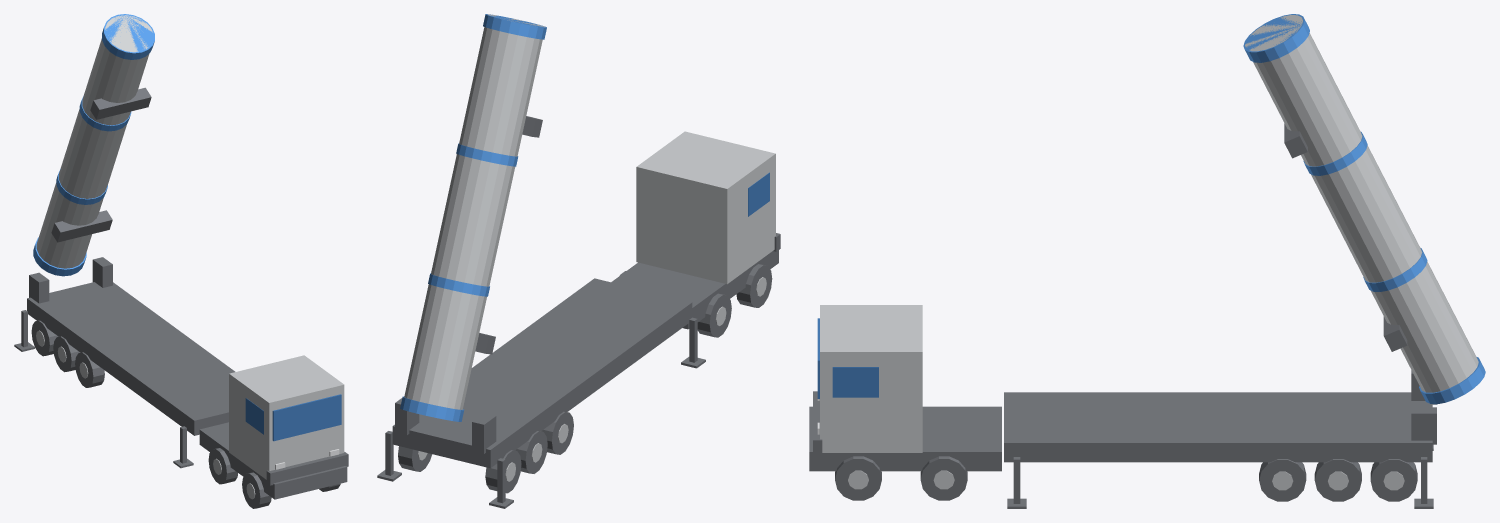
The model's file is Launcher_LongRange_01.fbx.
3 renders of one model, left to right at view 1: azimuth 30°, elevation 25°; view 2: azimuth 150°, elevation 25°; view 3: azimuth 270°, elevation 25°, orthographic. The views are drawn at different scales.
Parts seen in each view (by area): view 1: Launcher_LongRange_01_Trim, Launcher_LongRange_01_Canister_Structure, Launcher_LongRange_01_Structure, Launcher_LongRange_01_Canister_Accent, Launcher_LongRange_01_Windows, Launcher_LongRange_01_Canister_Trim; view 2: Launcher_LongRange_01_Trim, Launcher_LongRange_01_Canister_Structure, Launcher_LongRange_01_Structure, Launcher_LongRange_01_Canister_Accent, Launcher_LongRange_01_Canister_Trim, Launcher_LongRange_01_Windows; view 3: Launcher_LongRange_01_Trim, Launcher_LongRange_01_Canister_Structure, Launcher_LongRange_01_Structure, Launcher_LongRange_01_Canister_Accent, Launcher_LongRange_01_Windows, Launcher_LongRange_01_Canister_Trim.
Boxes of the visible parts, x1,y1,x2,y2 form: Launcher_LongRange_01_Trim: (14,257,348,508); Launcher_LongRange_01_Canister_Structure: (36,15,152,268); Launcher_LongRange_01_Structure: (36,330,344,499); Launcher_LongRange_01_Canister_Accent: (33,14,154,276); Launcher_LongRange_01_Windows: (245,394,341,441); Launcher_LongRange_01_Canister_Trim: (51,87,151,242); Launcher_LongRange_01_Trim: (377,233,780,508); Launcher_LongRange_01_Canister_Structure: (404,14,545,409); Launcher_LongRange_01_Structure: (418,131,775,481); Launcher_LongRange_01_Canister_Accent: (400,14,546,421); Launcher_LongRange_01_Canister_Trim: (475,116,542,354); Launcher_LongRange_01_Windows: (748,172,769,216); Launcher_LongRange_01_Trim: (809,370,1436,508); Launcher_LongRange_01_Canister_Structure: (1245,15,1478,392); Launcher_LongRange_01_Structure: (820,305,1404,490); Launcher_LongRange_01_Canister_Accent: (1243,14,1485,404); Launcher_LongRange_01_Windows: (817,318,878,398); Launcher_LongRange_01_Canister_Trim: (1284,123,1407,351).
Bounding box in the file's own units: 3.65 × 11.74 × 15.79.
